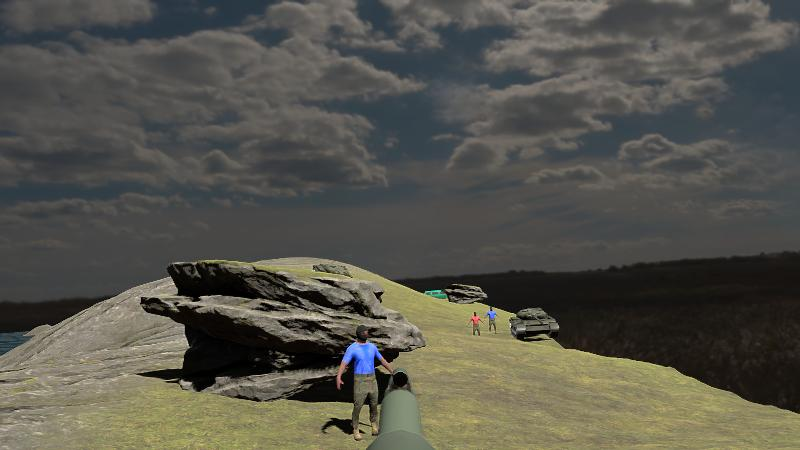Human: (336, 326, 393, 442)
Tank: (509, 306, 560, 340)
